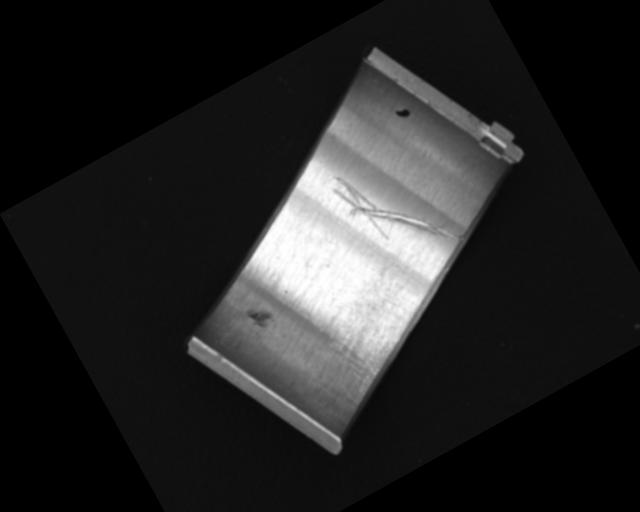blot: (393, 102, 413, 122)
bruise: (244, 302, 275, 333)
nick: (323, 134, 463, 284)
scratch: (307, 283, 433, 406)
